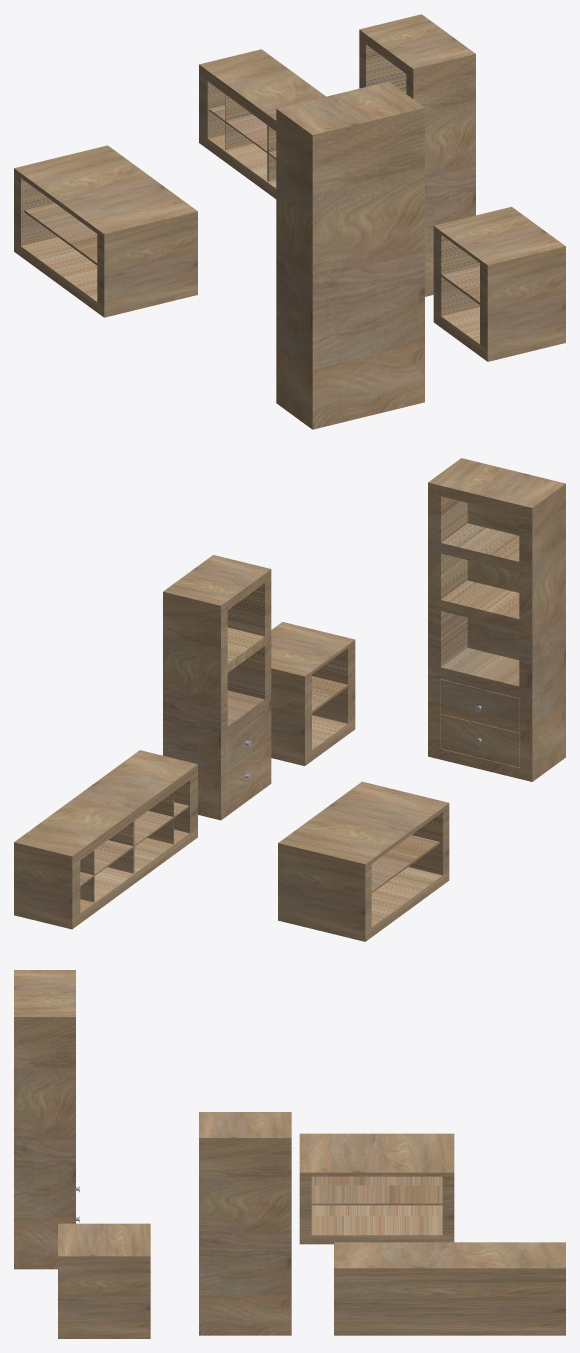
Rendered from Moda Collection.obj.
3 views of the same model, one above another, from view 1: azimuth 30°, elevation 25°; view 2: azimuth 150°, elevation 25°; view 3: azimuth 270°, elevation 25° (orthographic). The views are drawn at different scales.
Visible parts, largest first — view 1: F_Moda_3_TierDisplay, G_Moda_CoffeeTable, E_Moda_EndTable, D_Moda_2_TierDisplay, C_Moda_TVUnit; view 2: F_Moda_3_TierDisplay, D_Moda_2_TierDisplay, C_Moda_TVUnit, G_Moda_CoffeeTable, E_Moda_EndTable; view 3: C_Moda_TVUnit, D_Moda_2_TierDisplay, F_Moda_3_TierDisplay, G_Moda_CoffeeTable, E_Moda_EndTable.
Boxes of the visible parts, x1=… form: F_Moda_3_TierDisplay: x1=276, y1=81, x2=424, y2=429; G_Moda_CoffeeTable: x1=14, y1=145, x2=197, y2=317; E_Moda_EndTable: x1=433, y1=206, x2=565, y2=361; D_Moda_2_TierDisplay: x1=359, y1=14, x2=475, y2=296; C_Moda_TVUnit: x1=199, y1=49, x2=325, y2=198; F_Moda_3_TierDisplay: x1=428, y1=458, x2=565, y2=781; D_Moda_2_TierDisplay: x1=163, y1=555, x2=271, y2=820; C_Moda_TVUnit: x1=14, y1=750, x2=197, y2=929; G_Moda_CoffeeTable: x1=278, y1=781, x2=449, y2=941; E_Moda_EndTable: x1=271, y1=622, x2=355, y2=765; C_Moda_TVUnit: x1=334, y1=1242, x2=565, y2=1335; D_Moda_2_TierDisplay: x1=199, y1=1112, x2=291, y2=1335; F_Moda_3_TierDisplay: x1=14, y1=970, x2=75, y2=1269; G_Moda_CoffeeTable: x1=299, y1=1133, x2=454, y2=1244; E_Moda_EndTable: x1=58, y1=1223, x2=150, y2=1338.
Size of the model in its own units: 80.71 by 70.87 by 141.
